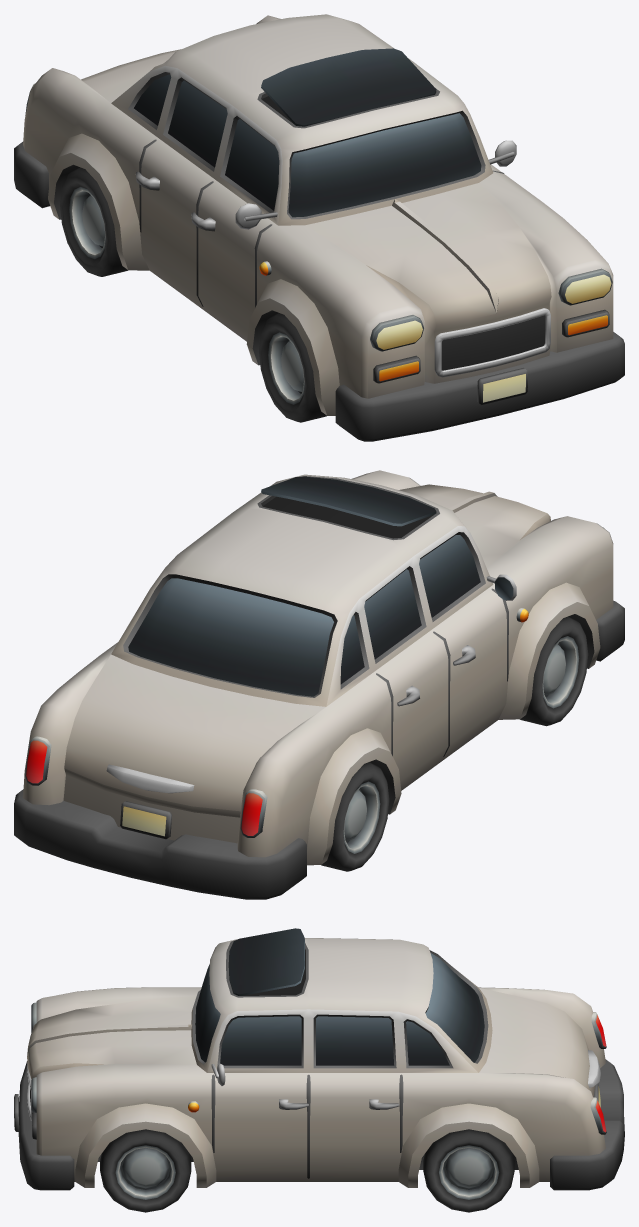
The model's file is Car_3B.fbx.
3 views of the same model, one above another, from view 1: azimuth 30°, elevation 25°; view 2: azimuth 150°, elevation 25°; view 3: azimuth 270°, elevation 25° (orthographic). The views are drawn at different scales.
Visible parts, largest first — view 1: Car_3B, Wheel_3B_R.R, Wheel_3B_F.R; view 2: Car_3B, Wheel_3B_R.R, Wheel_3B_F.R; view 3: Car_3B, Wheel_3B_R.L, Wheel_3B_F.L.
Boxes of the visible parts, bbox=[...] form: Car_3B: bbox=[14, 14, 624, 441]; Wheel_3B_R.R: bbox=[60, 167, 128, 276]; Wheel_3B_F.R: bbox=[259, 313, 326, 422]; Car_3B: bbox=[14, 470, 624, 899]; Wheel_3B_R.R: bbox=[321, 762, 389, 871]; Wheel_3B_F.R: bbox=[520, 616, 588, 726]; Car_3B: bbox=[14, 928, 624, 1190]; Wheel_3B_R.L: bbox=[423, 1129, 514, 1212]; Wheel_3B_F.L: bbox=[100, 1129, 191, 1212].
Size of the model in its own units: 243 by 212 by 562.
